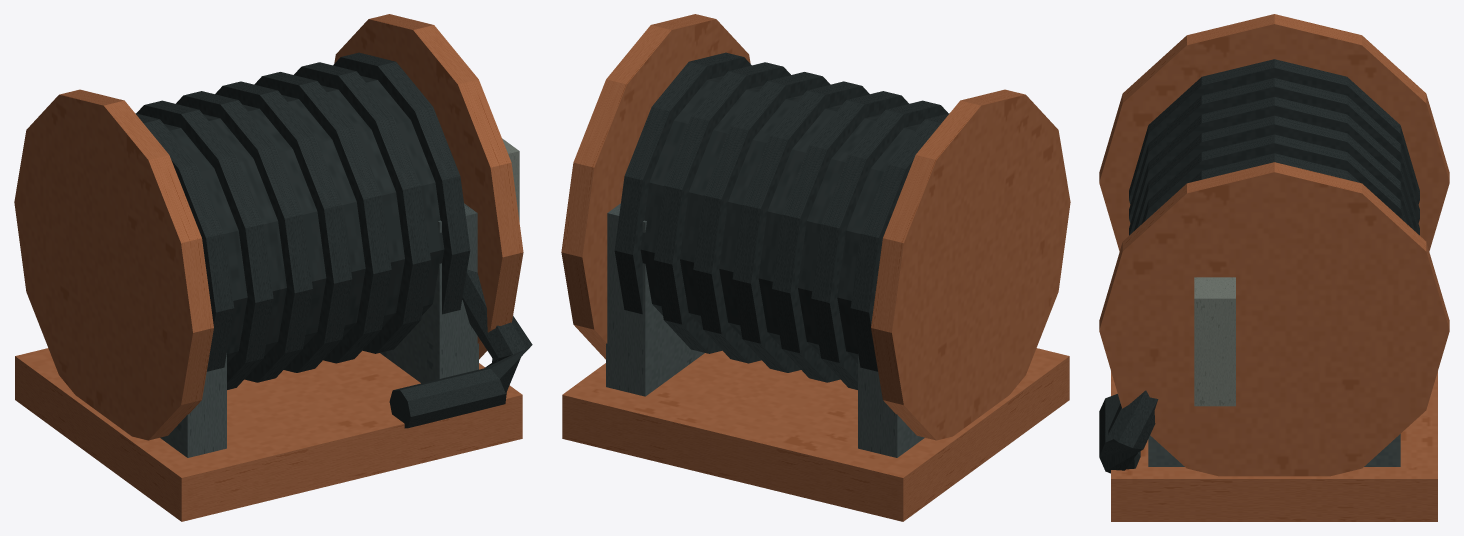
The model's file is HoseReel.fbx.
The picture shows the model from 3 angles, left to right: view 1: azimuth 30°, elevation 25°; view 2: azimuth 150°, elevation 25°; view 3: azimuth 270°, elevation 25°; orthographic projection.
Visible parts, largest first — view 1: HoseReel; view 2: HoseReel; view 3: HoseReel.
Boxes of the visible parts, box(x1,y1,x2,y2) form: HoseReel: box(14, 14, 532, 521); HoseReel: box(561, 14, 1070, 521); HoseReel: box(1099, 14, 1449, 521).
Bounding box in the file's own units: 145 × 129 × 118.
